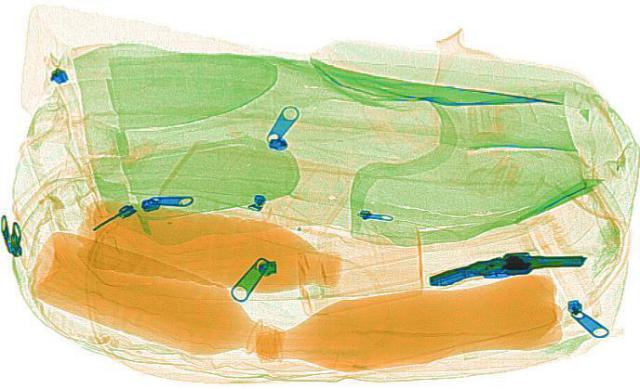Gun: (417, 238, 591, 290)
